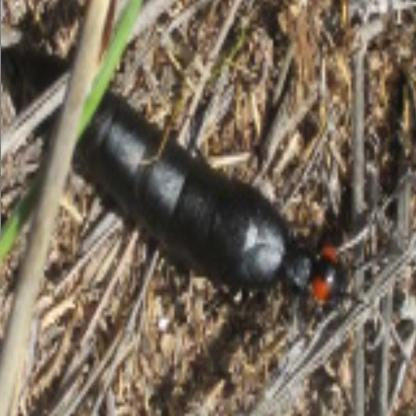beetle: (5, 18, 371, 321)
